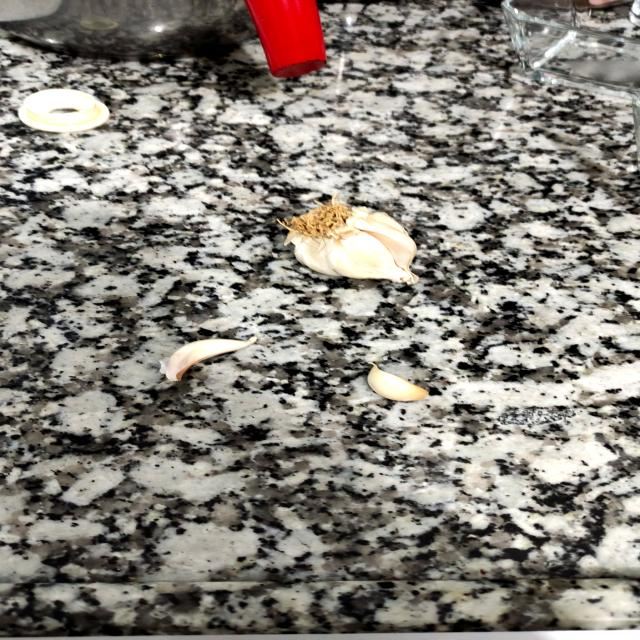garlic: (276, 192, 440, 292), (137, 319, 279, 384), (350, 354, 457, 413)
